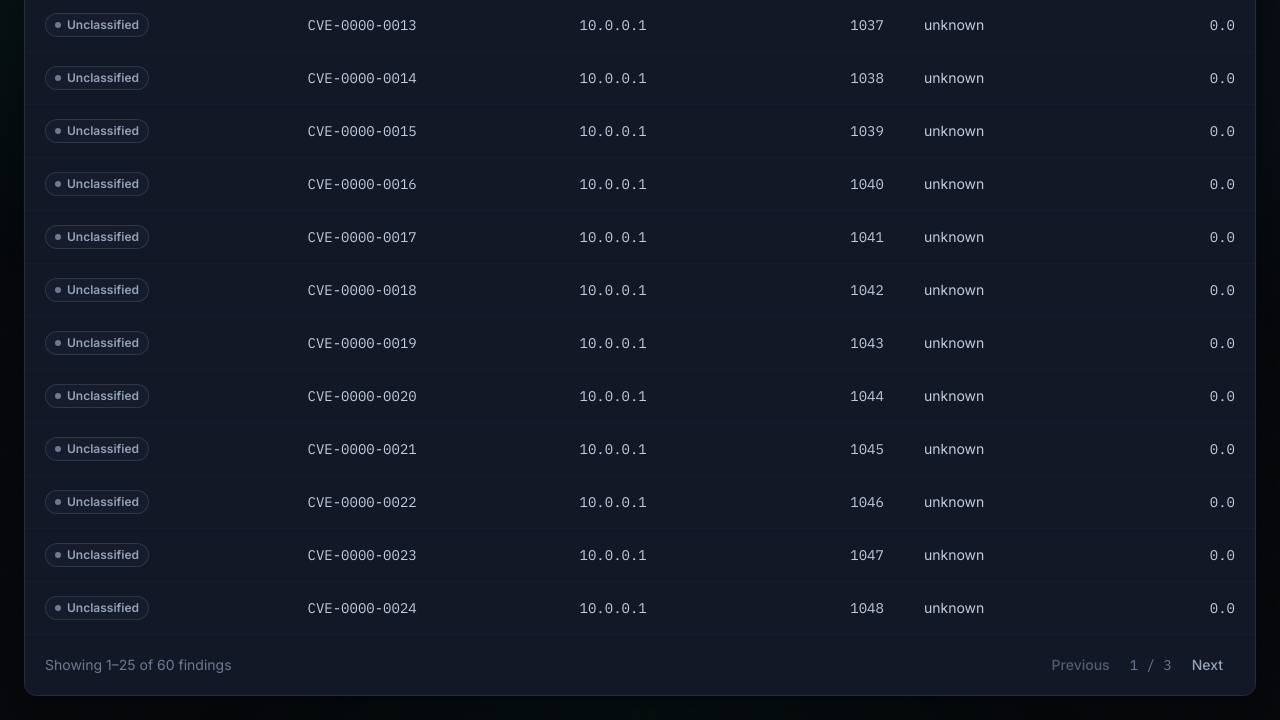
Test: ScanResults › resets to page 1 when the severity filter changes
(page scrolled)
Click the button with aria-label "Next page": (1207, 665) [1180, 649, 1235, 681]
(page scrolled)
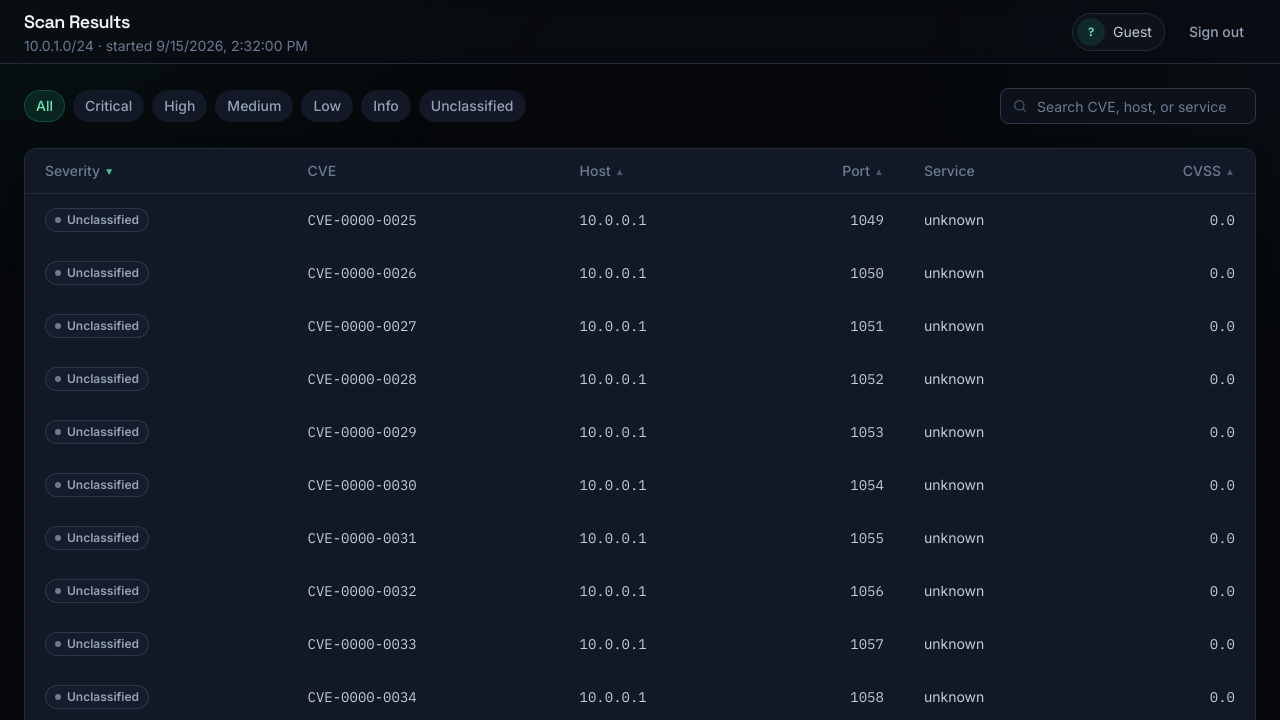
Click the button "unclassified": (472, 106) [419, 90, 526, 122]
(page scrolled)
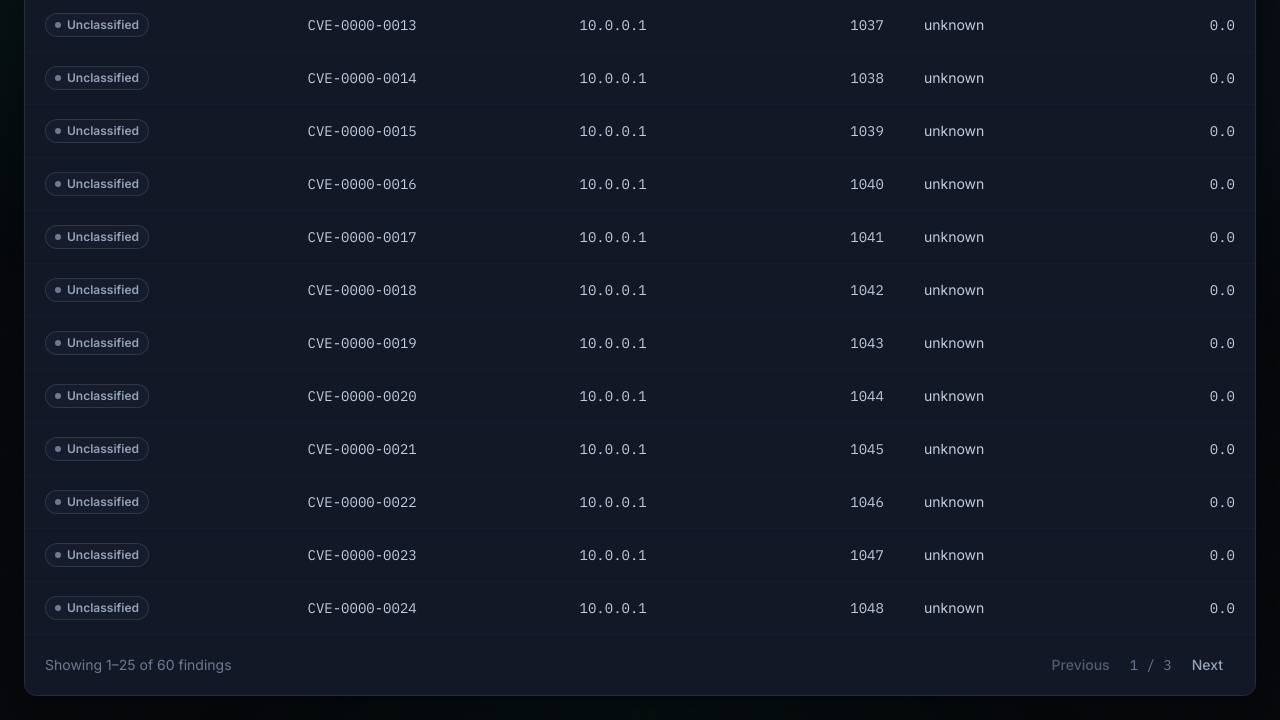
Result: the text "Showing 1–25 of 60 findings" is shown at [45, 655, 232, 675]
